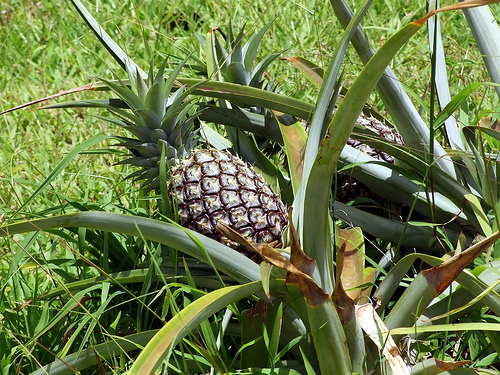pineapple: (88, 47, 290, 254)
